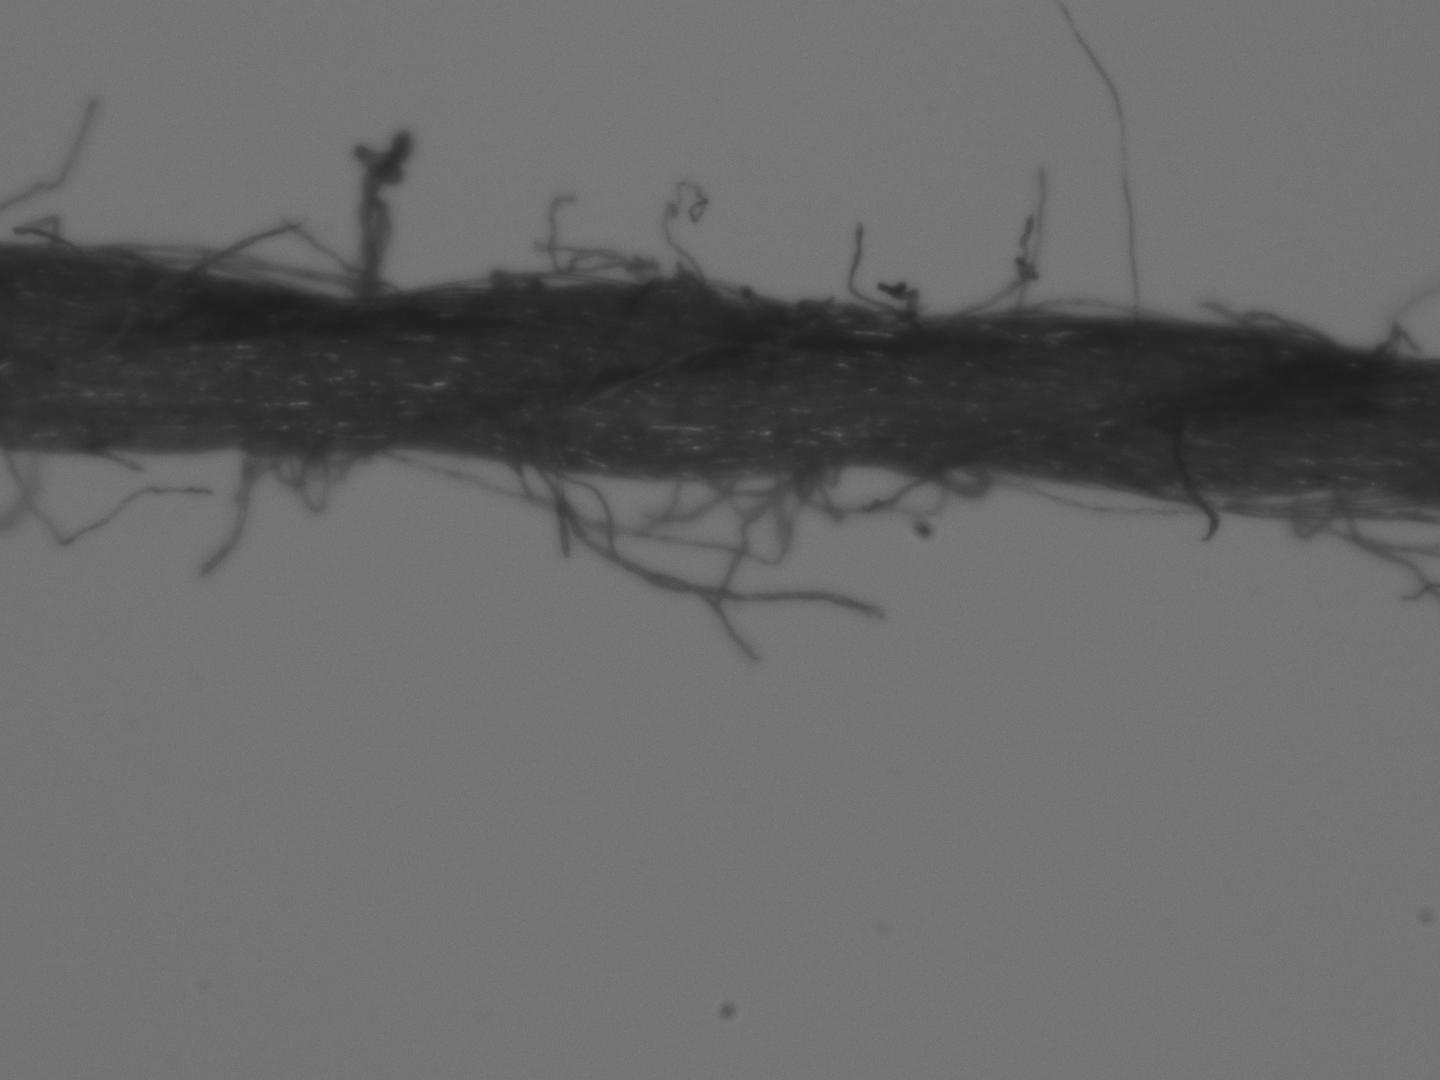loop_fiber: (369, 450, 990, 566), (997, 467, 1439, 610), (194, 218, 404, 306), (115, 241, 395, 306), (414, 244, 659, 303), (349, 121, 421, 309), (993, 294, 1247, 336), (248, 445, 378, 514), (1245, 312, 1420, 360), (8, 211, 82, 262)
protruding_fiber: (542, 461, 895, 621), (1056, 5, 1147, 326), (713, 458, 814, 676), (2, 458, 220, 551), (0, 95, 100, 213), (541, 192, 651, 290), (195, 446, 253, 576), (658, 177, 719, 293), (844, 211, 898, 315), (1015, 157, 1049, 311), (1171, 475, 1220, 549), (535, 467, 570, 559), (878, 276, 920, 315), (91, 450, 147, 471)
